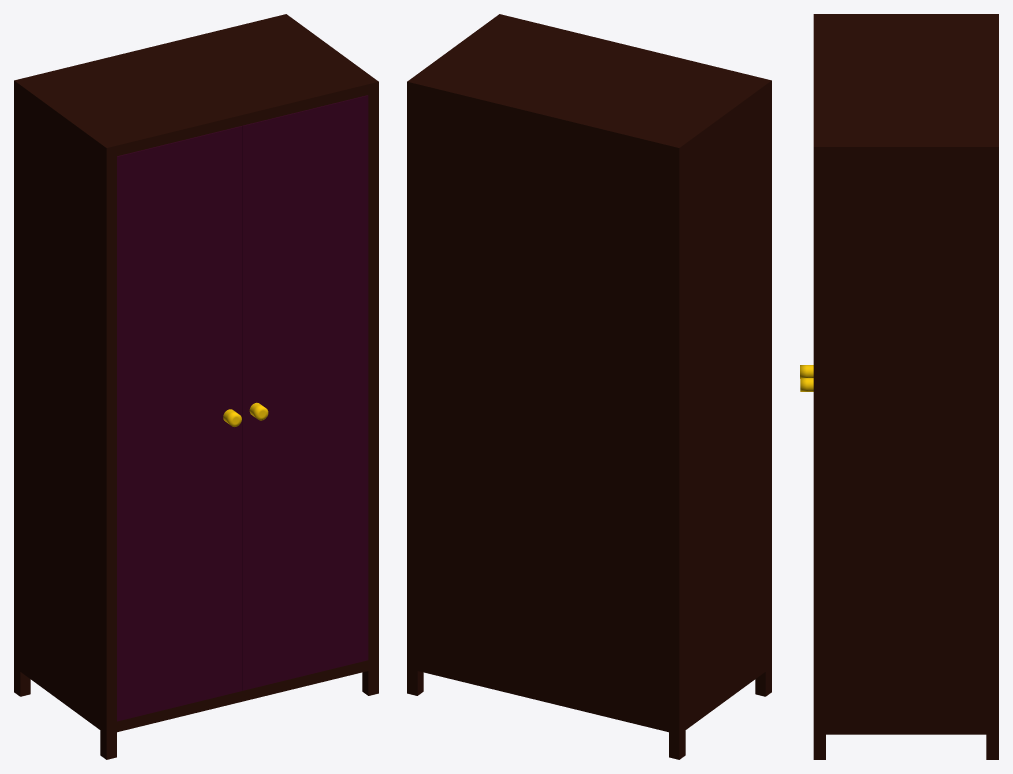
Rendered from Wardrobe.FBX.
3 views of the same model, side by side, from view 1: azimuth 30°, elevation 25°; view 2: azimuth 150°, elevation 25°; view 3: azimuth 270°, elevation 25° (orthographic).
Parts seen in each view (by area): view 1: Wardrobe, LeftDoor, RightDoor; view 2: Wardrobe; view 3: Wardrobe.
Part boxes in pixels (x1,y1,x2,y2): Wardrobe: [14, 14, 378, 759]; LeftDoor: [242, 95, 368, 690]; RightDoor: [117, 126, 242, 721]; Wardrobe: [407, 14, 771, 759]; Wardrobe: [813, 14, 998, 759].
Bounding box in the file's own units: 33.46 × 71.85 × 21.12.
